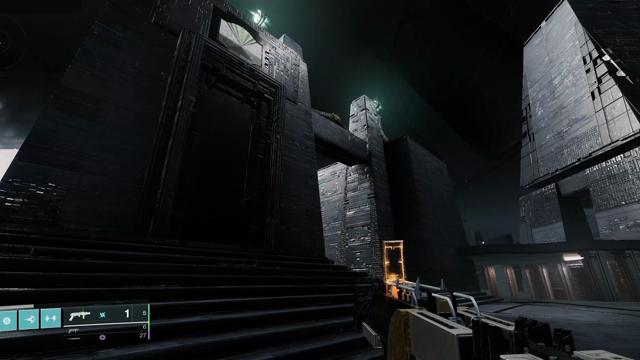commune: (218, 19, 262, 69)
